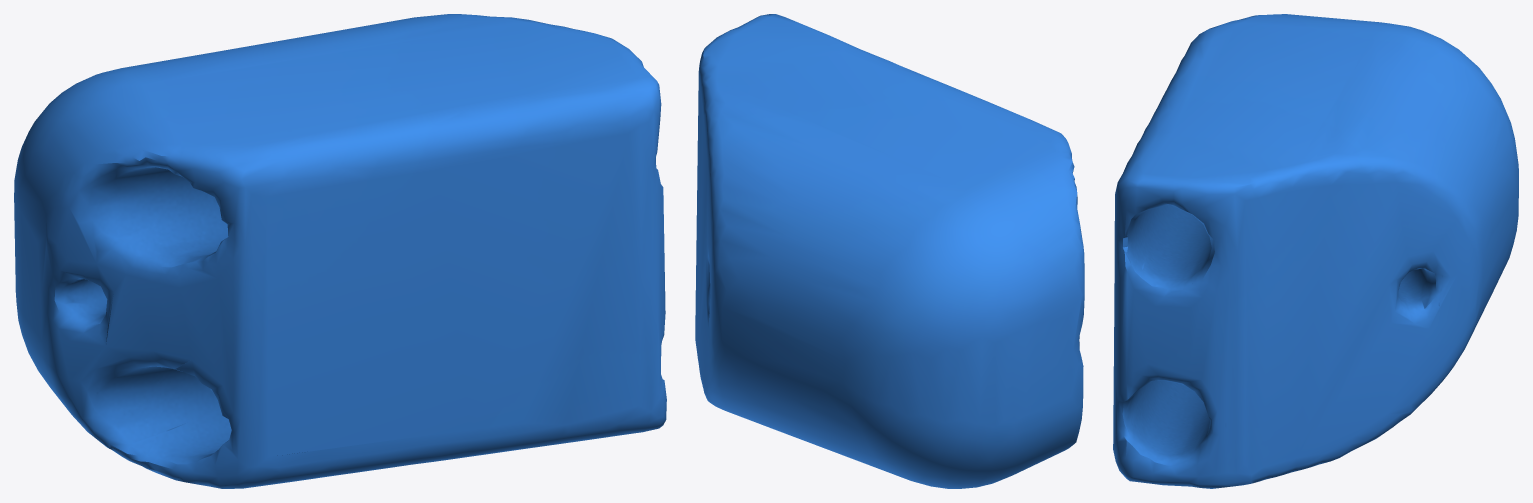
Rendered from left_thomb_upper.obj.
3 renders of one model, left to right at view 1: azimuth 30°, elevation 25°; view 2: azimuth 150°, elevation 25°; view 3: azimuth 270°, elevation 25°, orthographic. The views are drawn at different scales.
Visible parts, largest first — view 1: left_thomb_upper; view 2: left_thomb_upper; view 3: left_thomb_upper.
Boxes of the visible parts, x1,y1,x2,y2 form: left_thomb_upper: (14,14,666,488); left_thomb_upper: (695,14,1084,488); left_thomb_upper: (1113,14,1518,488).
Bounding box in the file's own units: 0.0203 × 0.0132 × 0.016.
1 material, 1 textured.
